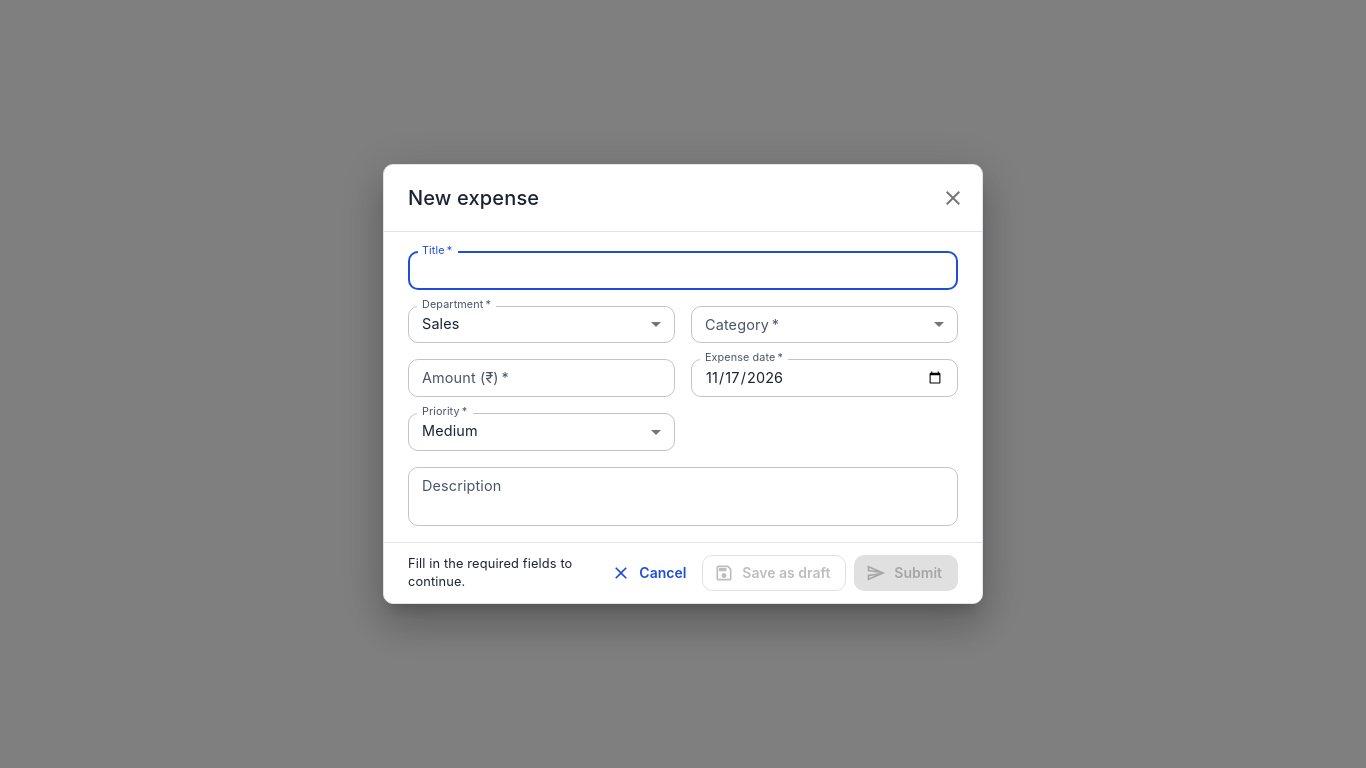
Test: create expense form › rejects an amount of zero
Type "0" into the number field labelled "Amount (₹) *" at (542,378), box [408, 359, 675, 397]
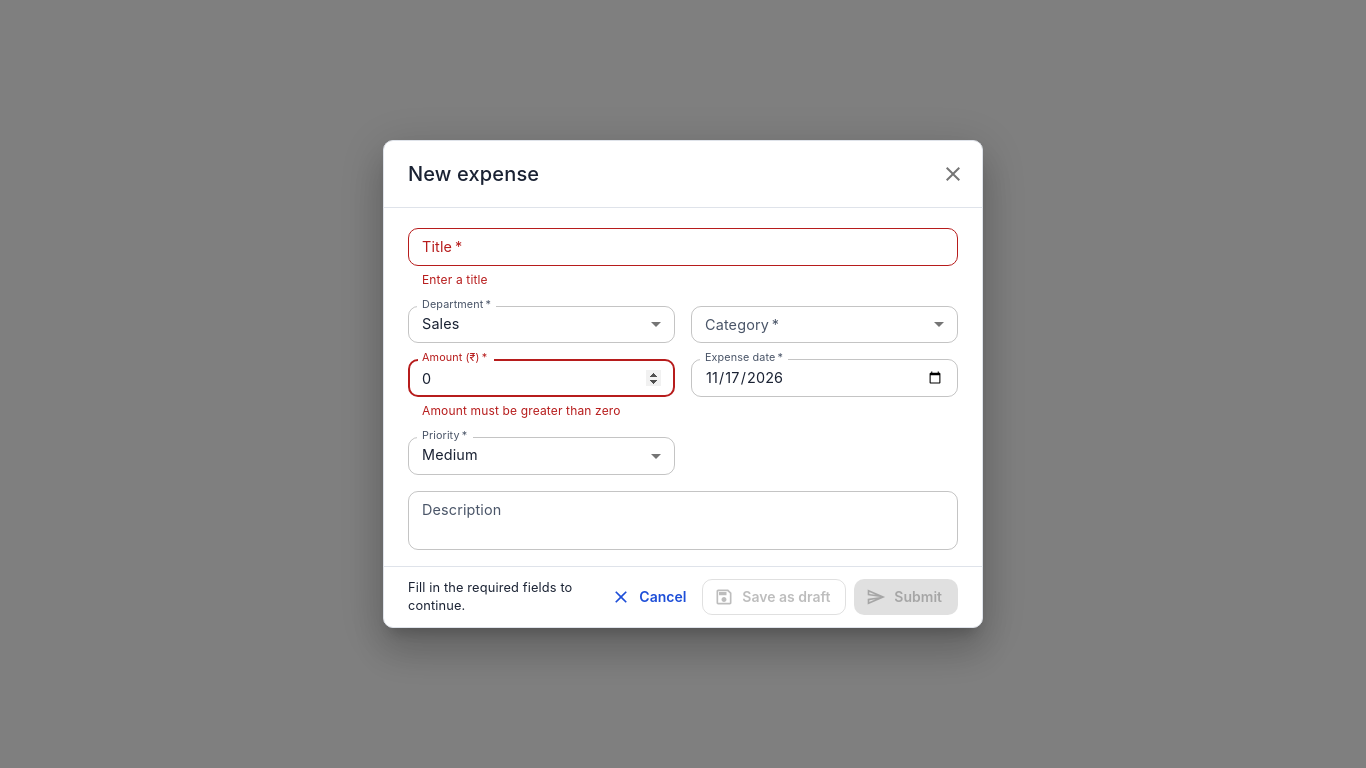
Expected: the button "Save as draft" is disabled, [702, 578, 846, 615]
Result: the text "Amount must be greater than zero" is shown at [422, 403, 621, 418]
